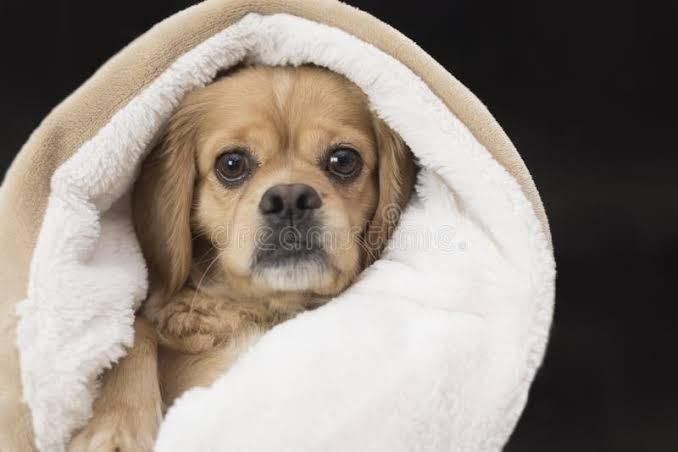adult_dog: (65, 64, 420, 452)
